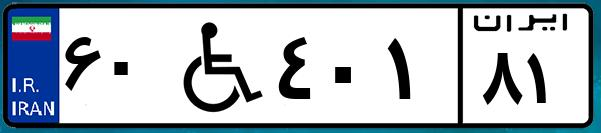0: (330, 28, 385, 110), (110, 28, 158, 98)
1: (385, 28, 445, 110), (525, 38, 570, 115)
4: (270, 28, 330, 110)
6: (57, 26, 110, 100)
8: (475, 38, 525, 113)
ژ (معلولین و جانبازان): (158, 12, 270, 120)
